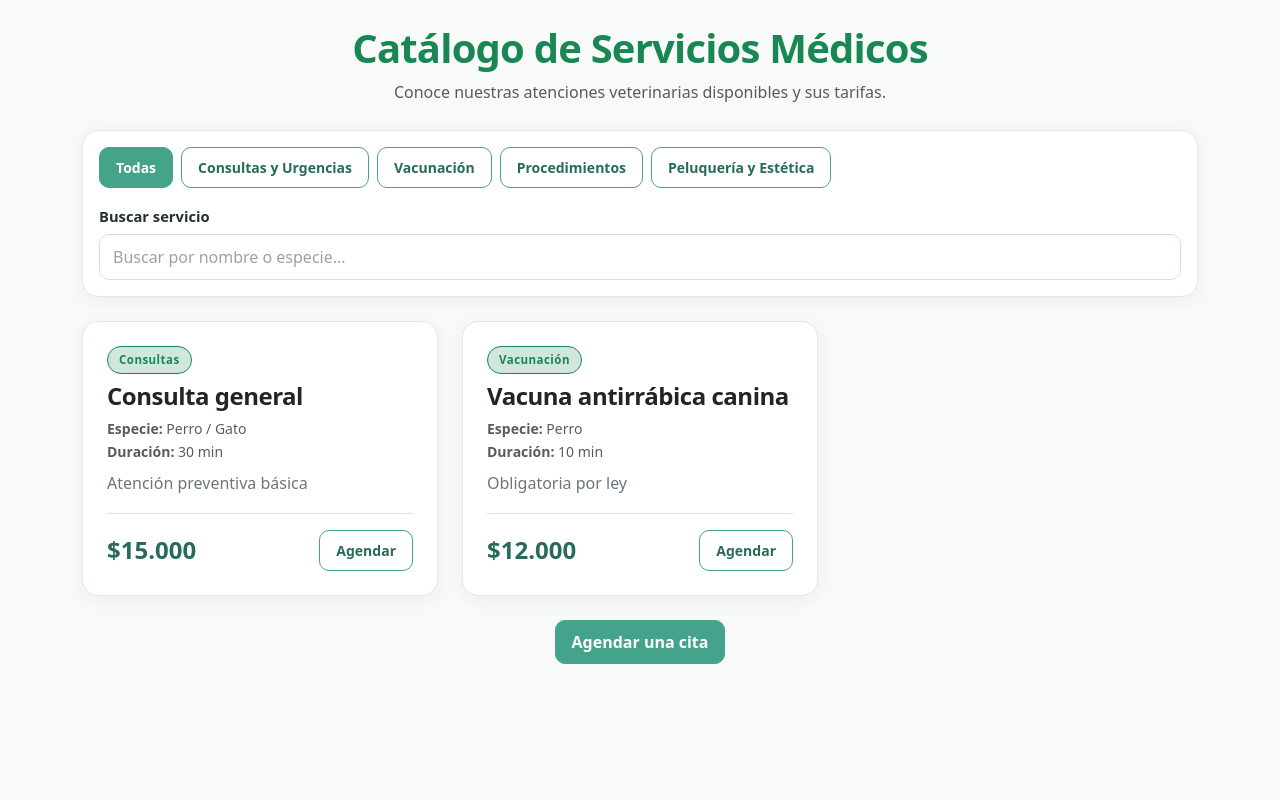
Test: ServiciosPage › filtra los servicios mediante el buscador
Expected: the heading "Consulta general" is shown, 107,379 -> 303,412
Type "vacuna" into the search field labelled "Buscar servicio" at (640, 257), box 99,234 -> 1181,280
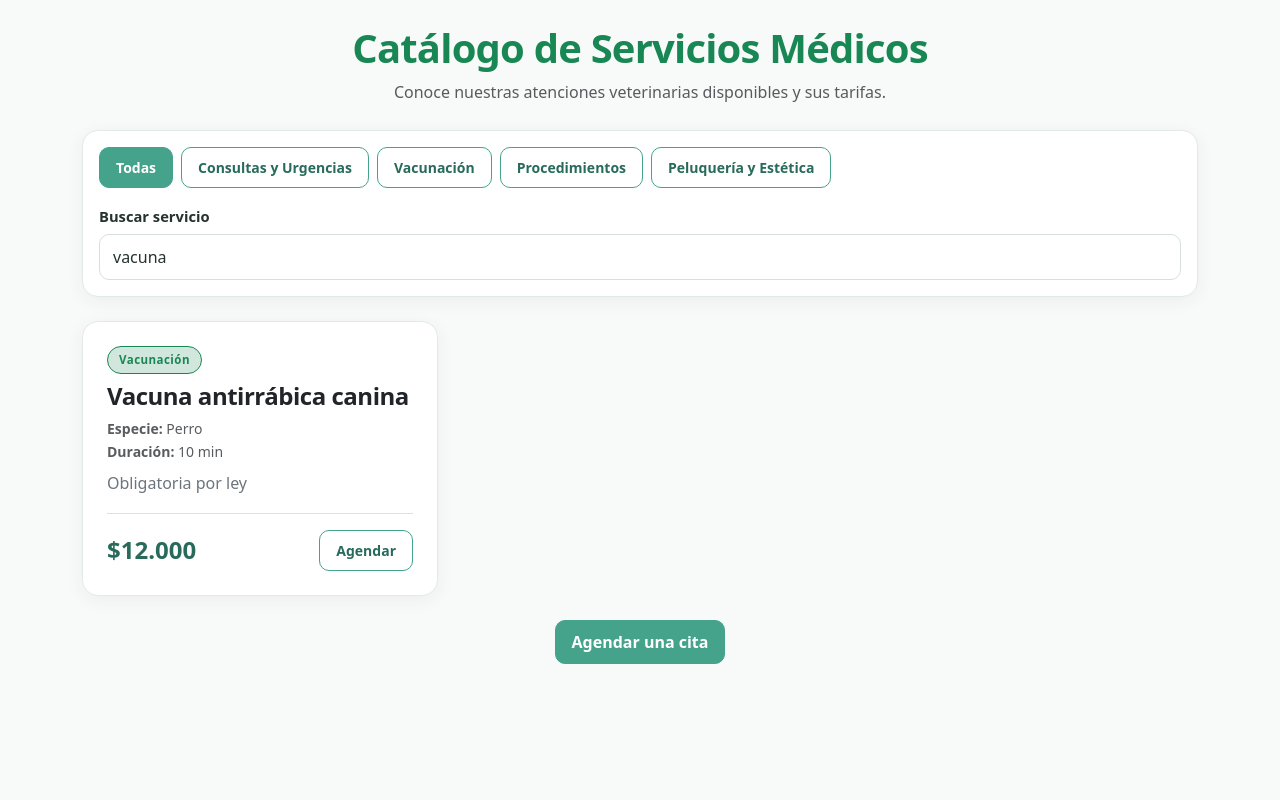
Expected: the heading "Vacuna antirrábica canina" is shown, 107,382 -> 413,410
Expected: the heading "Consulta general" is gone
